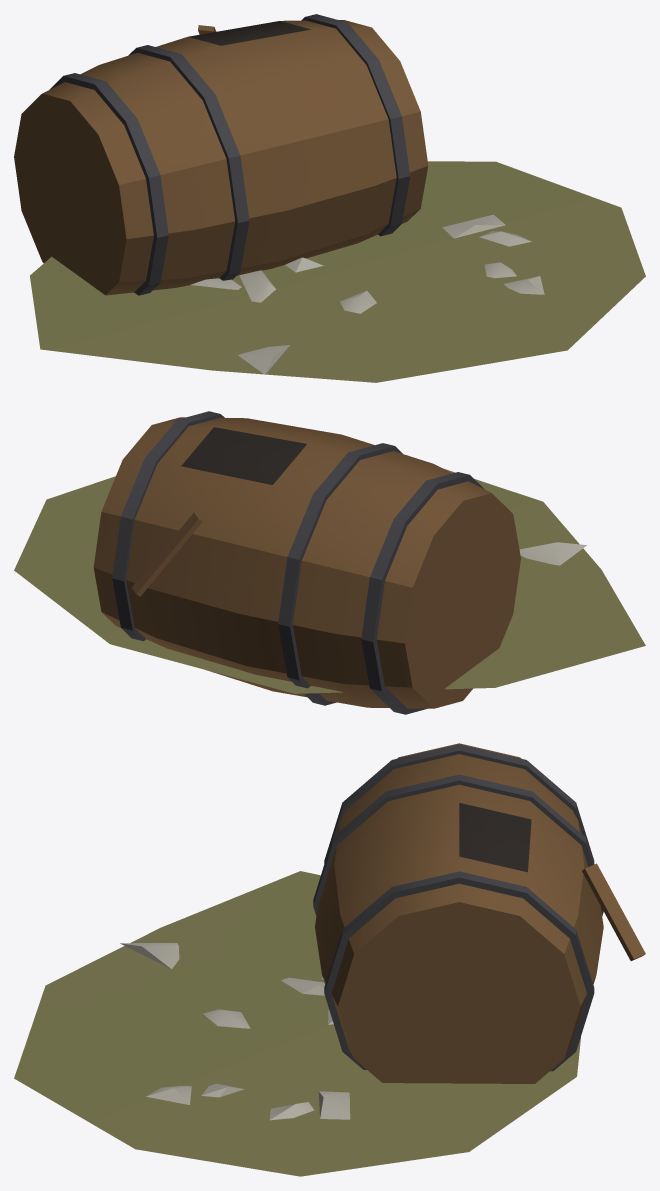
The model's file is LeakingCask.fbx.
The picture shows the model from 3 angles, top to bottom: view 1: azimuth 30°, elevation 25°; view 2: azimuth 150°, elevation 25°; view 3: azimuth 270°, elevation 25°; orthographic projection. The views are drawn at different scales.
Visible parts, largest first — view 1: LeakingCask; view 2: LeakingCask; view 3: LeakingCask.
Boxes of the visible parts, left/top/right/bottom form: LeakingCask: left=14, top=14, right=645, bottom=382; LeakingCask: left=14, top=411, right=645, bottom=714; LeakingCask: left=14, top=743, right=645, bottom=1176.
Bounding box in the file's own units: 2.5 × 0.961 × 2.19.
